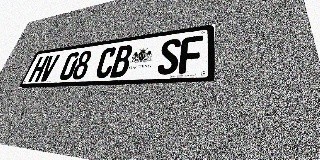0: (58, 52, 81, 80)
8: (71, 50, 94, 80)
B: (110, 44, 134, 78)
C: (94, 47, 118, 79)
F: (178, 35, 203, 74)
H: (28, 56, 50, 82)
S: (157, 38, 181, 75)
V: (38, 54, 60, 82)
